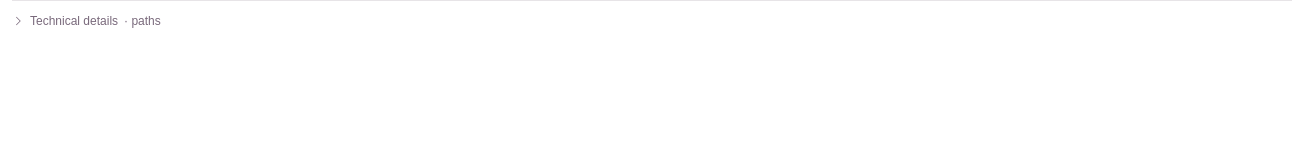
Test: a disclosure is a button with aria-expanded that opens a labelled region
The width and height of the screenshot is (1292, 160).
expect the text "src/a.tsx:3" is not shown: met
What coordinates should you click on to do the following:
click the button "Technical details · paths"
I would click on:
 (86, 21)
Its box is left=12, top=13, right=161, bottom=29.
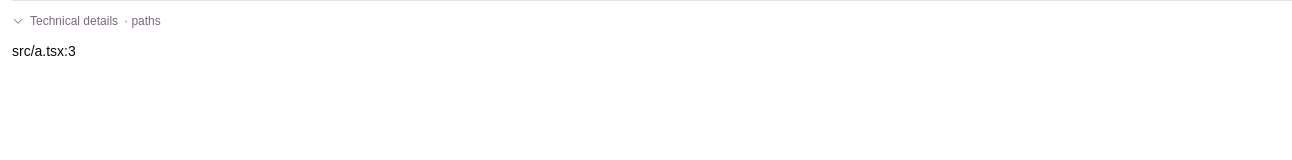
expect the button "Technical details · paths" is expanded: met, box left=12, top=13, right=161, bottom=29
expect the element showing "src/a.tsx:3" is shown: met, box left=12, top=43, right=76, bottom=59
